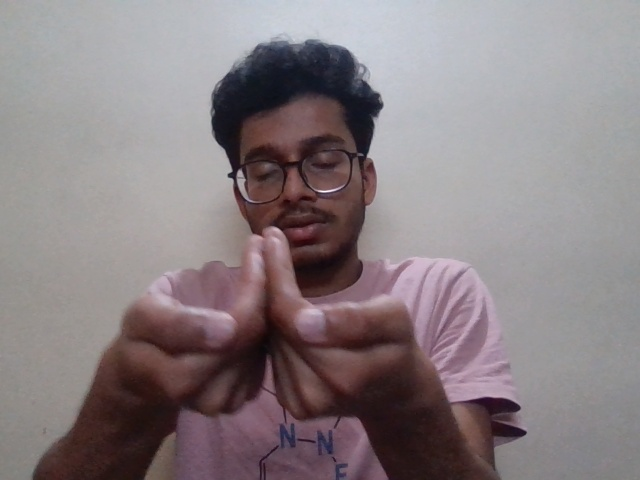tomorrow: (122, 228, 418, 442)
